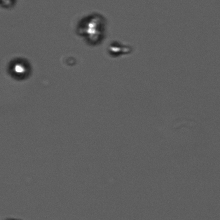Living Cell: (81, 14, 102, 40), (11, 59, 29, 76), (107, 40, 123, 55)
